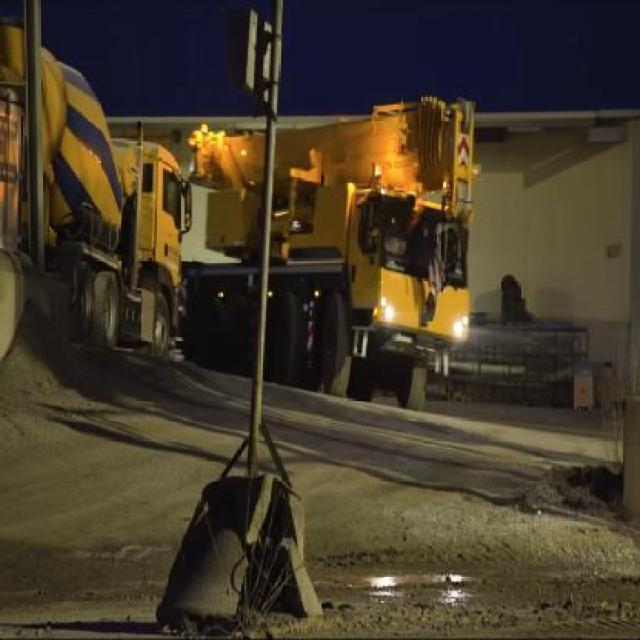Mobile Crane: (185, 101, 469, 408)
